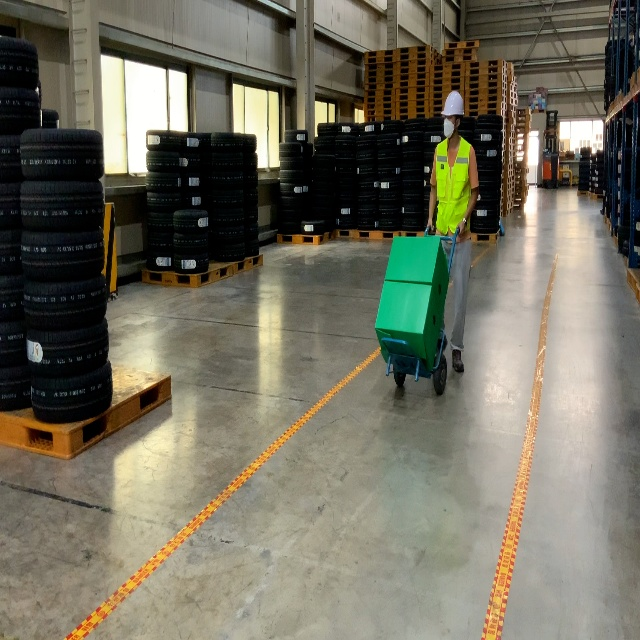Box: (374, 280, 442, 372), (384, 236, 450, 317)
Worker: (426, 88, 480, 375)
